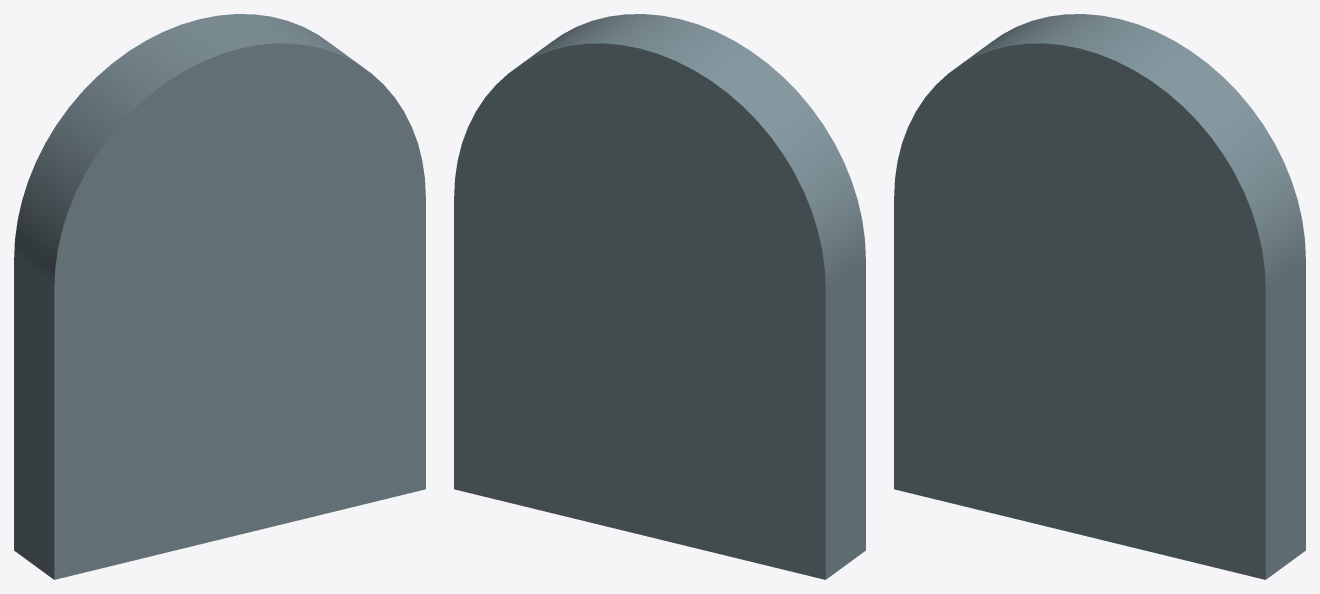
Rendered from step_01.glb.
The picture shows the model from 3 angles, left to right: view 1: azimuth 30°, elevation 25°; view 2: azimuth 150°, elevation 25°; view 3: azimuth 330°, elevation 25°; orthographic projection.
Parts seen in each view (by area): view 1: part__lifting lug; view 2: part__lifting lug; view 3: part__lifting lug.
Part boxes in pixels (x1,y1,x2,y2): part__lifting lug: (14,14,425,579); part__lifting lug: (454,14,865,579); part__lifting lug: (894,14,1305,579).
Bounding box in the file's own units: 160 × 200 × 30.
